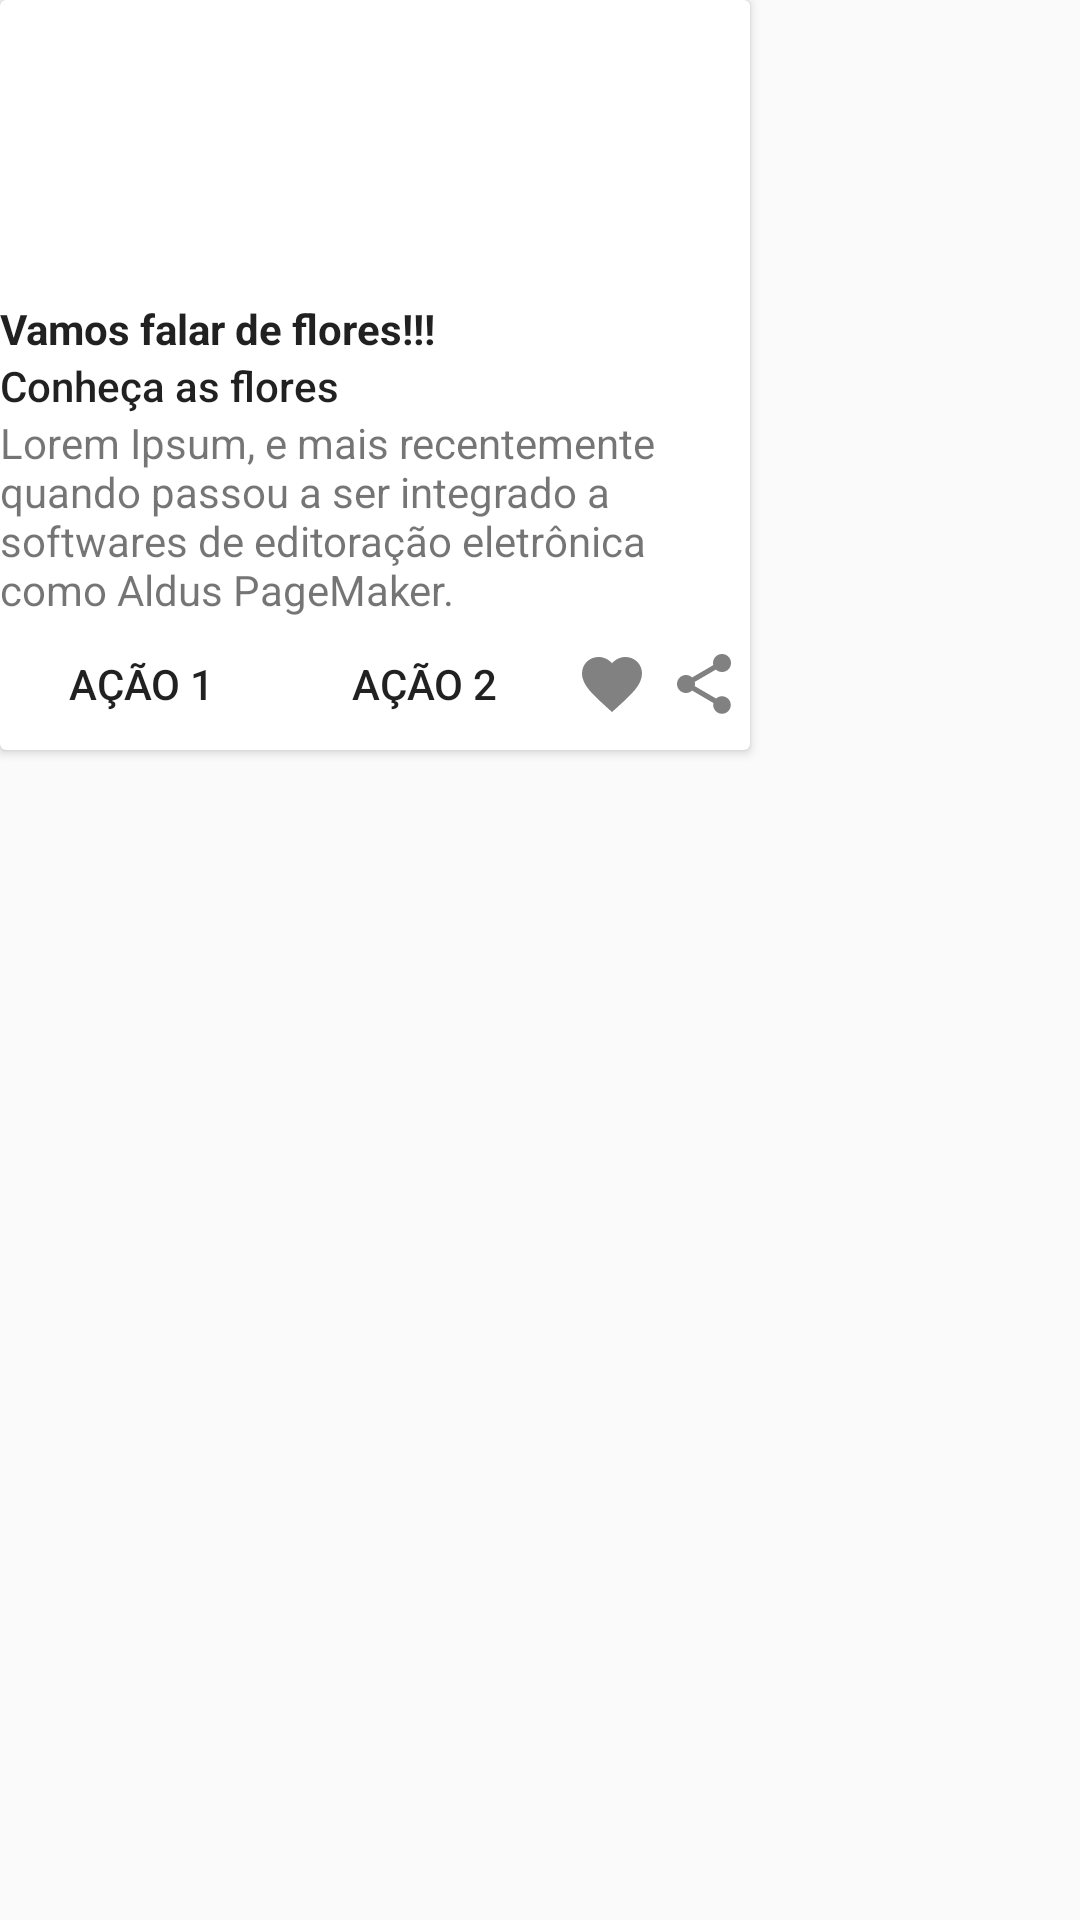

Point at icon controls on the screen. Image size 1080x1920, points as (x=x, y=y).
favorite: (x=612, y=684)
share: (x=704, y=684)
